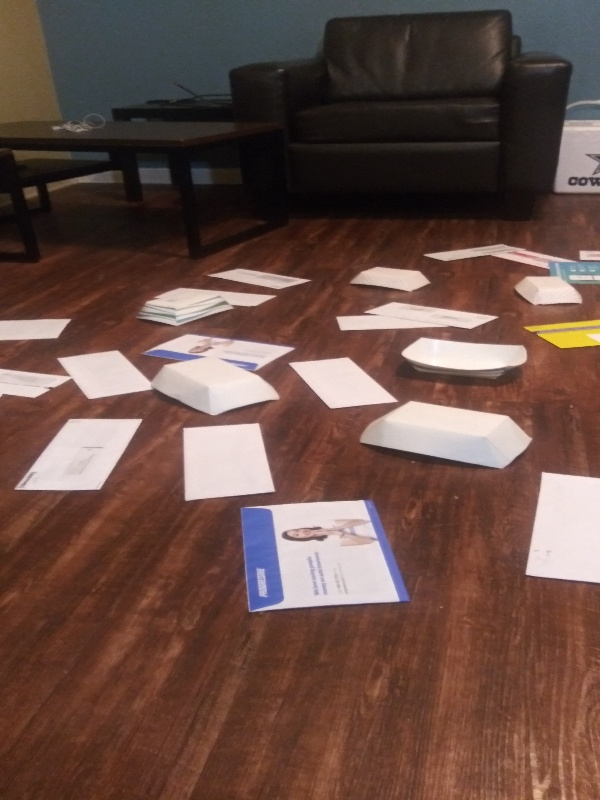plate: (352, 397, 538, 473), (148, 349, 282, 418), (397, 334, 533, 385), (128, 287, 238, 331), (344, 265, 434, 297), (509, 273, 587, 309)
